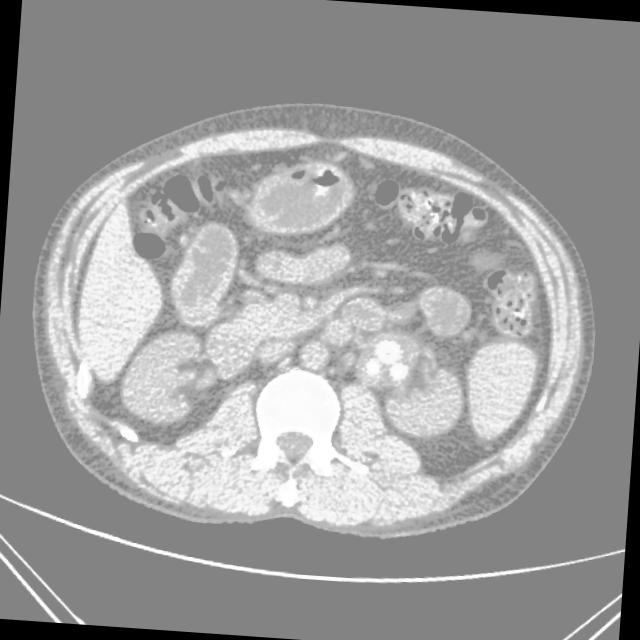STONE: (124, 118, 594, 444)
